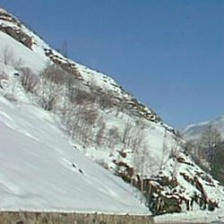neutral: (4, 8, 224, 214)
